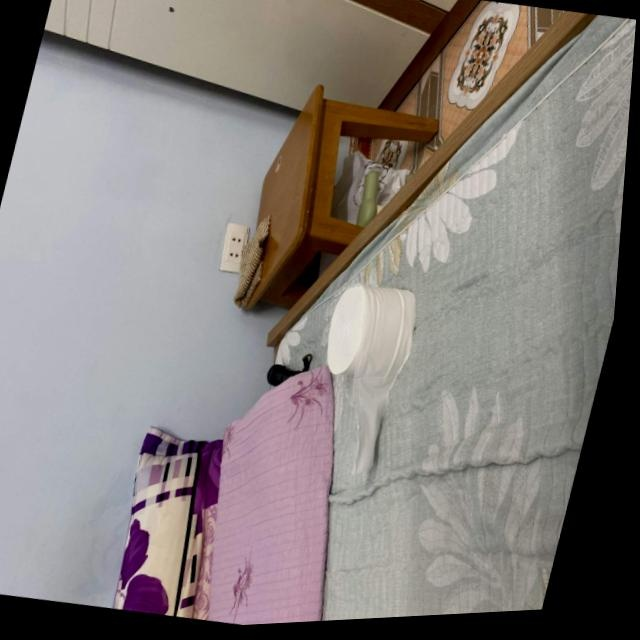outlet: (215, 219, 253, 274)
